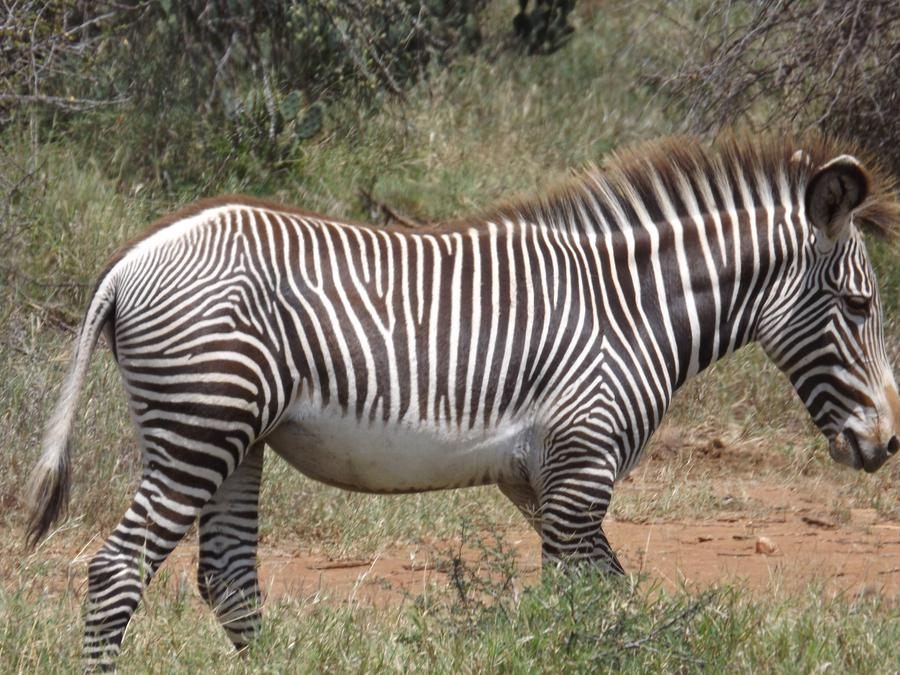zebra_grevys: (85, 171, 628, 486)
